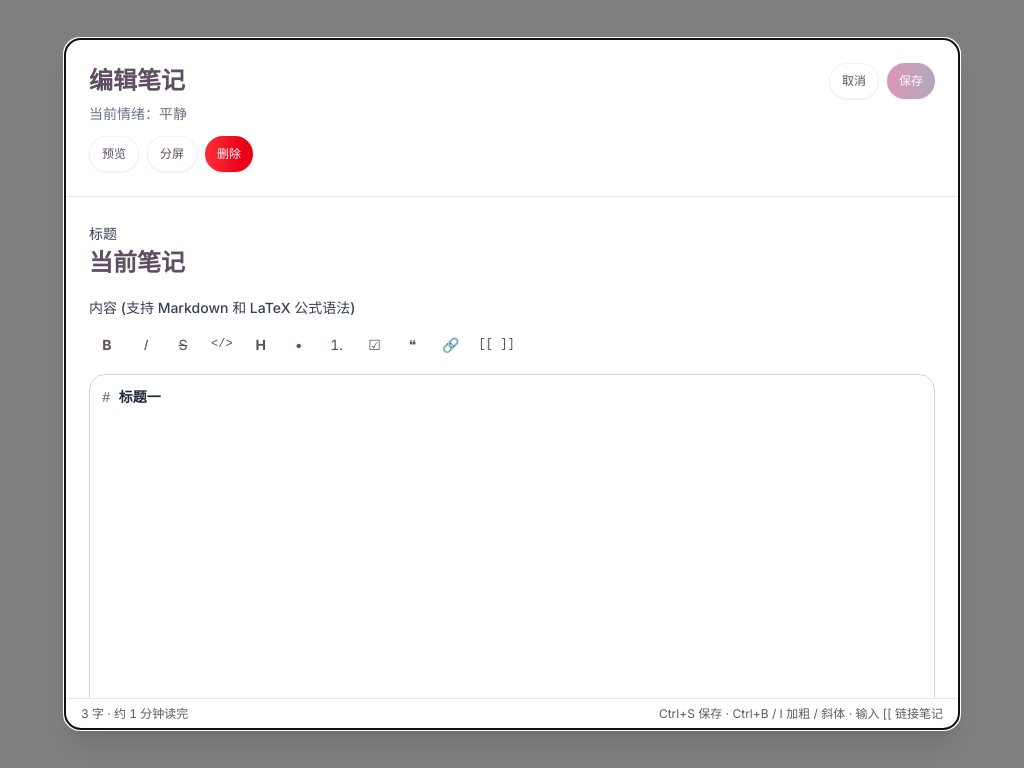
Scenario: 分屏 › 宽屏：按钮切换实时预览，并记住偏好
Click the button "分屏" at (172, 154), box left=147, top=136, right=197, bottom=172
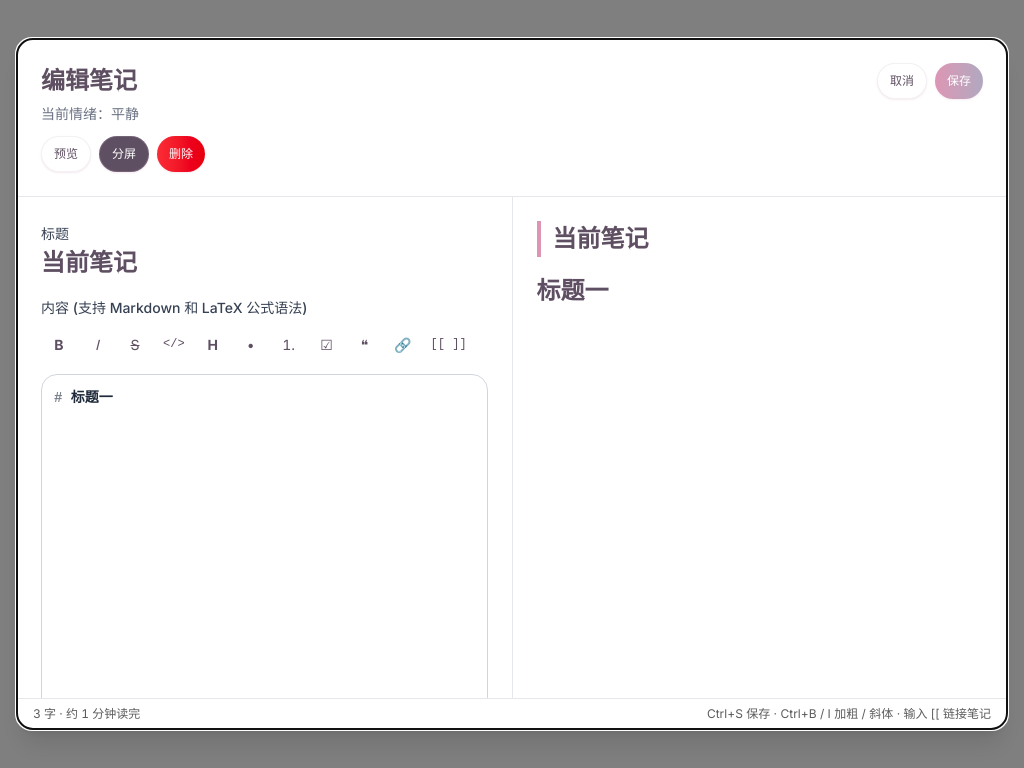
Check: the element named "实时预览" shows "当前笔记", box left=552, top=224, right=648, bottom=253
